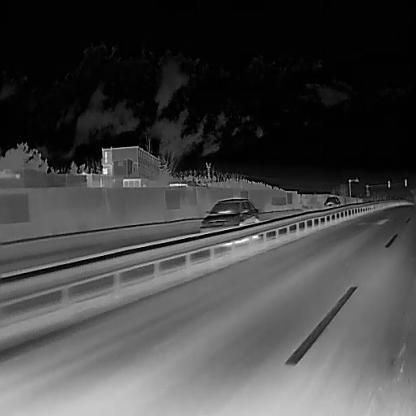car: (198, 197, 260, 242), (322, 195, 341, 209)
